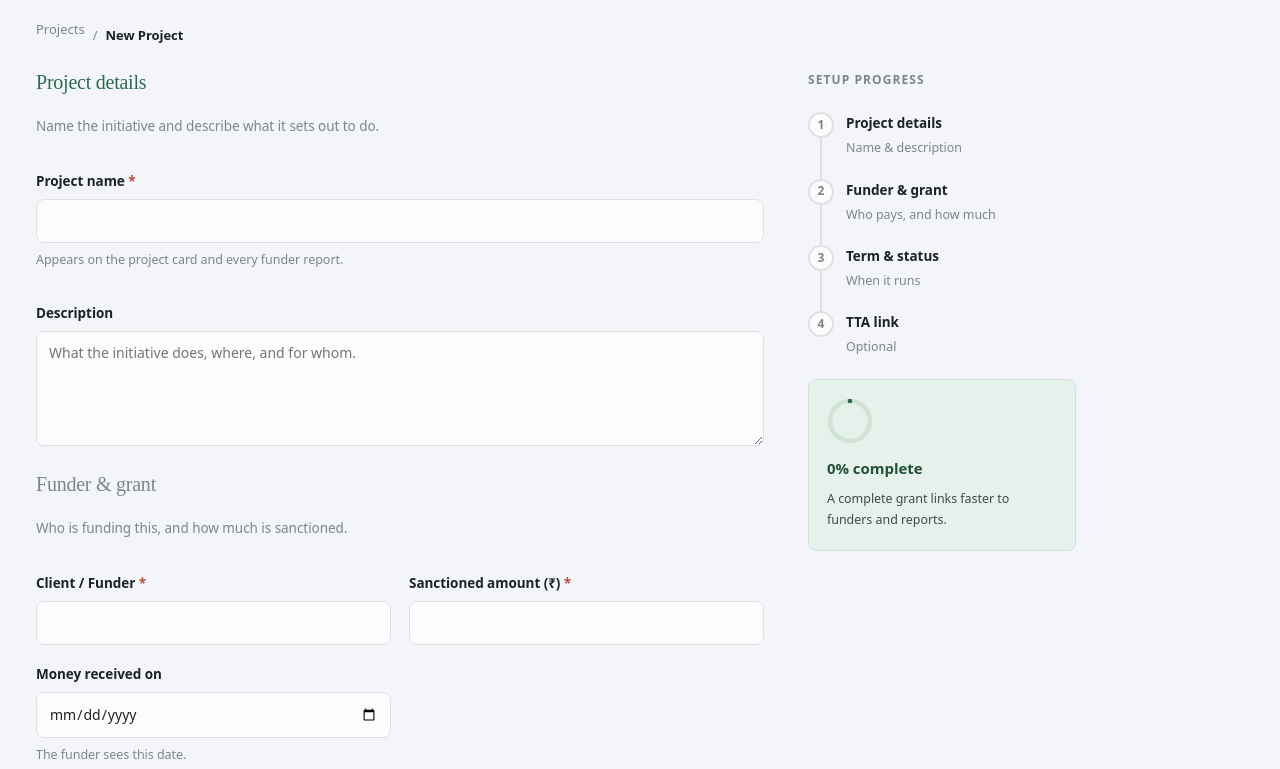
Test: the sanctioned amount › a negative amount is refused before anything is sent
Type "Khelo Girls" into the field labelled "Project name *".
click(400, 221); type("Khelo Girls")  # box x1=36 y1=199 x2=764 y2=243
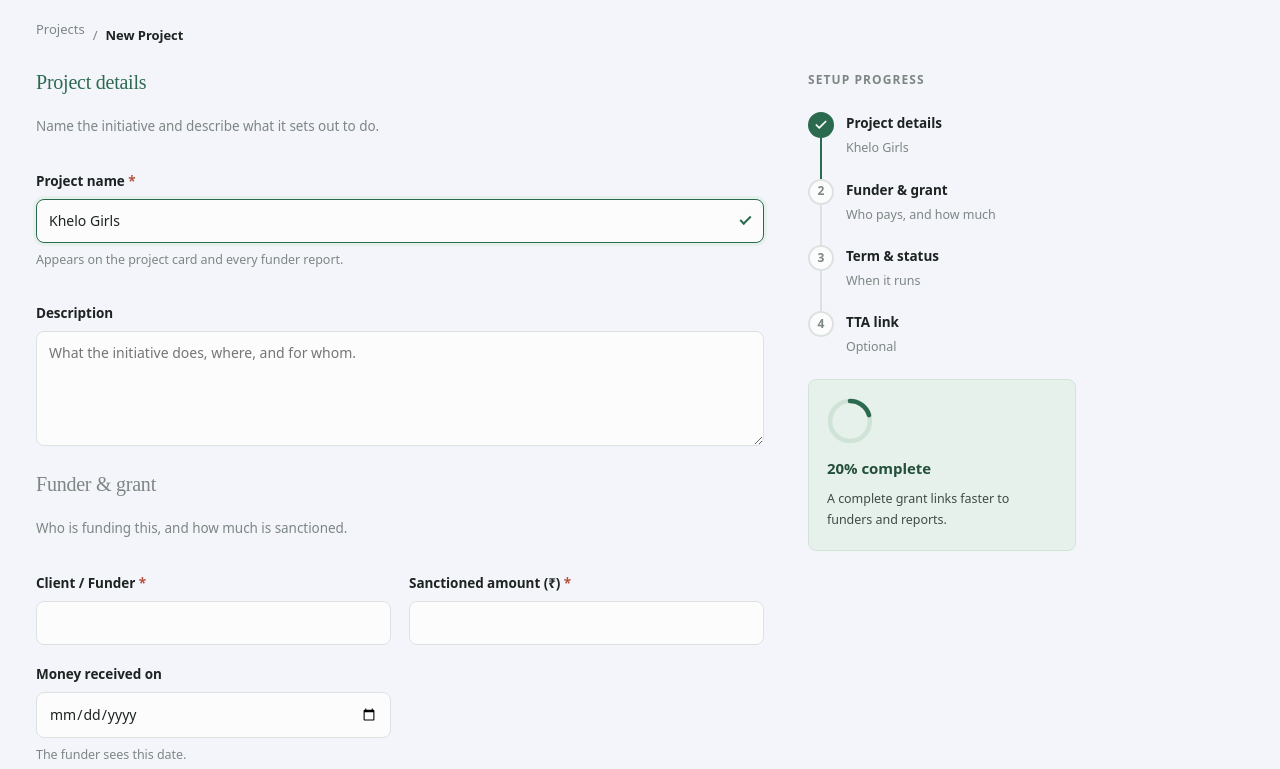
Type "Tata Trusts" into the field labelled "Client / Funder *".
click(214, 623); type("Tata Trusts")  # box x1=36 y1=601 x2=391 y2=645
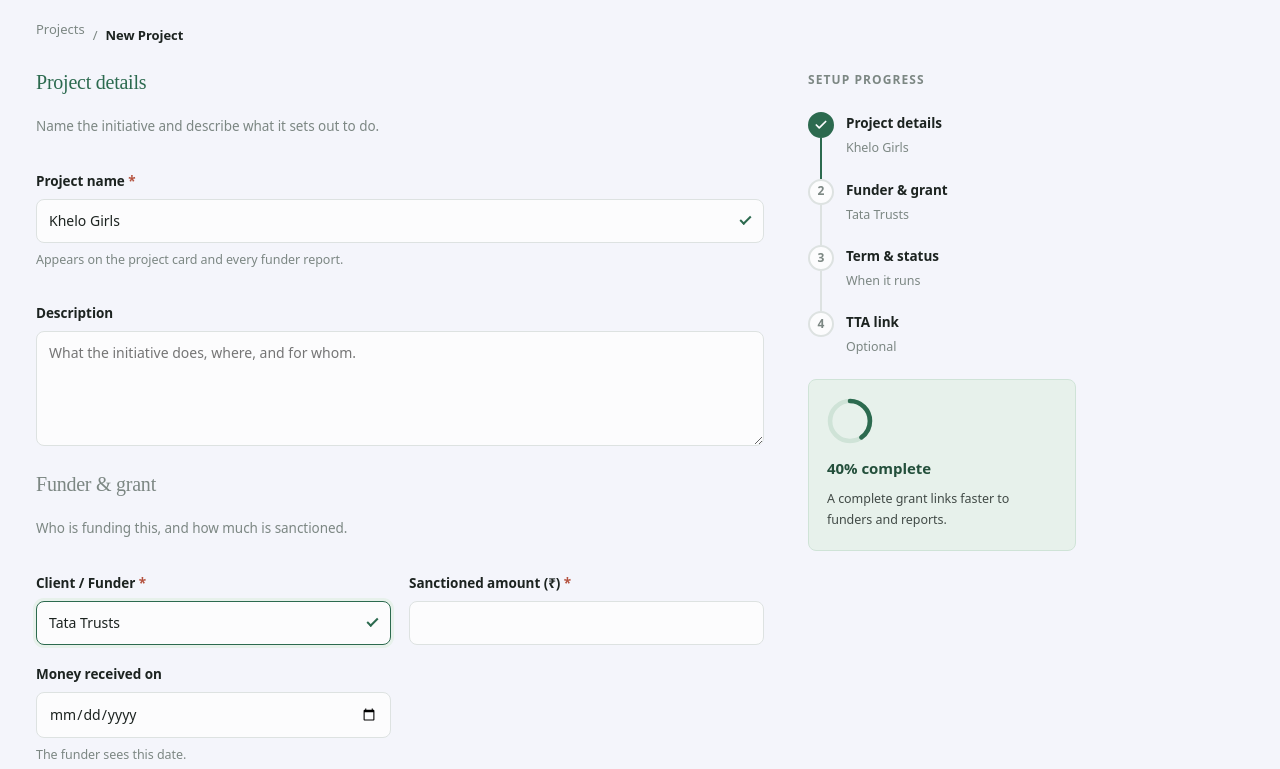
Type "-100" into the number field labelled "Sanctioned amount (₹) *".
click(586, 623); type("-100")  # box x1=409 y1=601 x2=764 y2=645
(page scrolled)
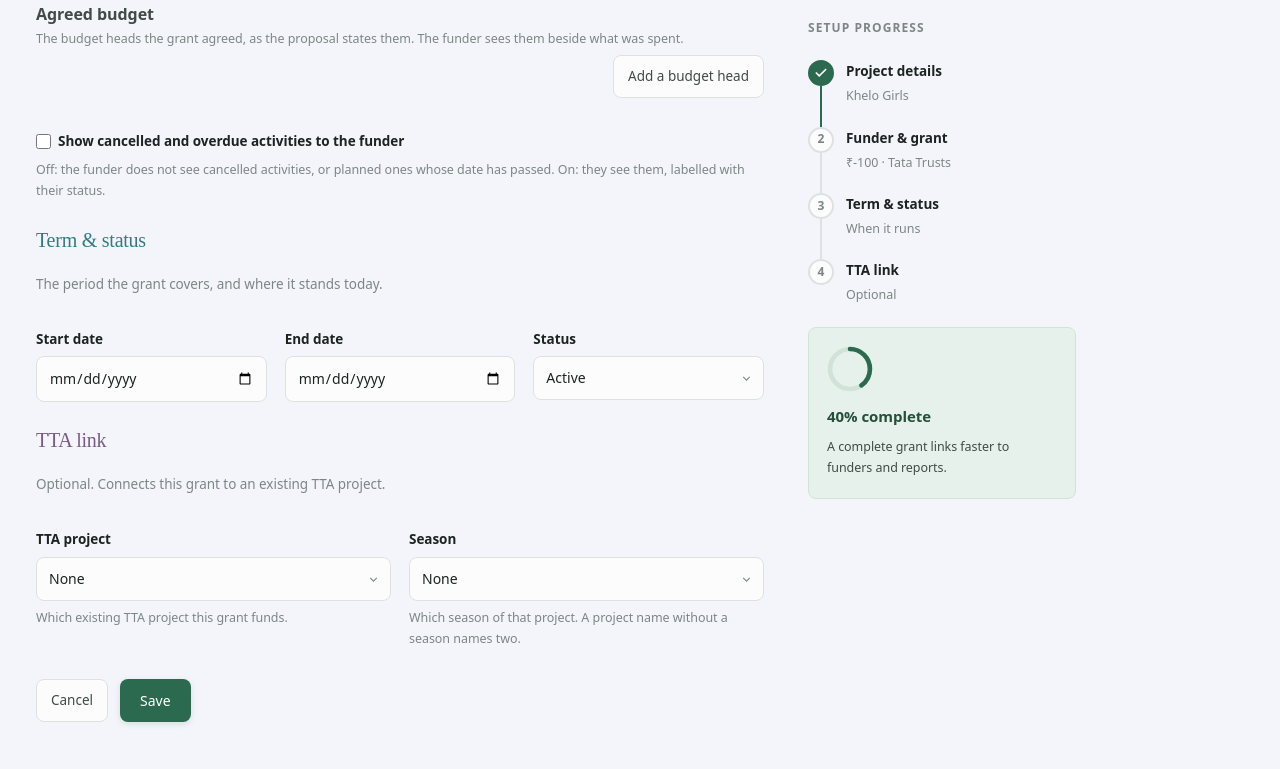
Click the button "Save".
click(155, 701)  # box x1=120 y1=680 x2=191 y2=722
(page scrolled)
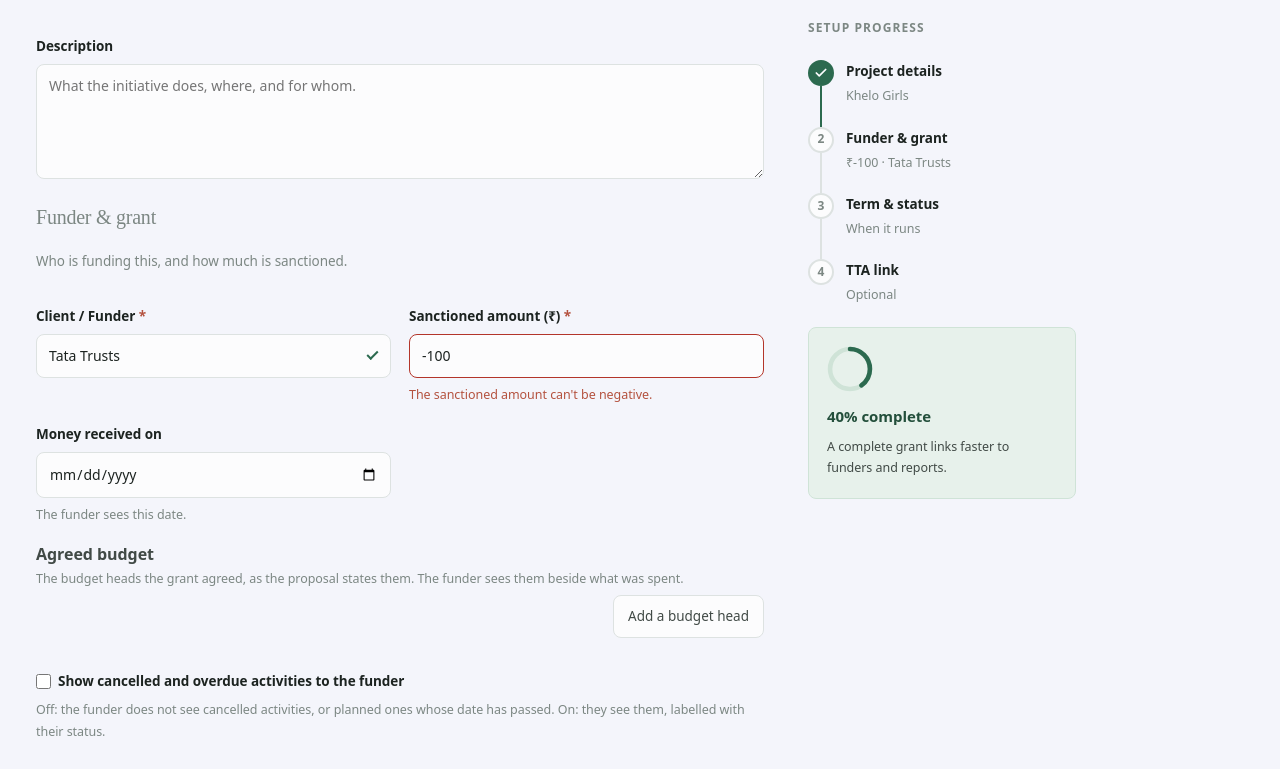
Expected: the text "The sanctioned amount can't be negative." is shown, x1=409 y1=386 x2=652 y2=403
